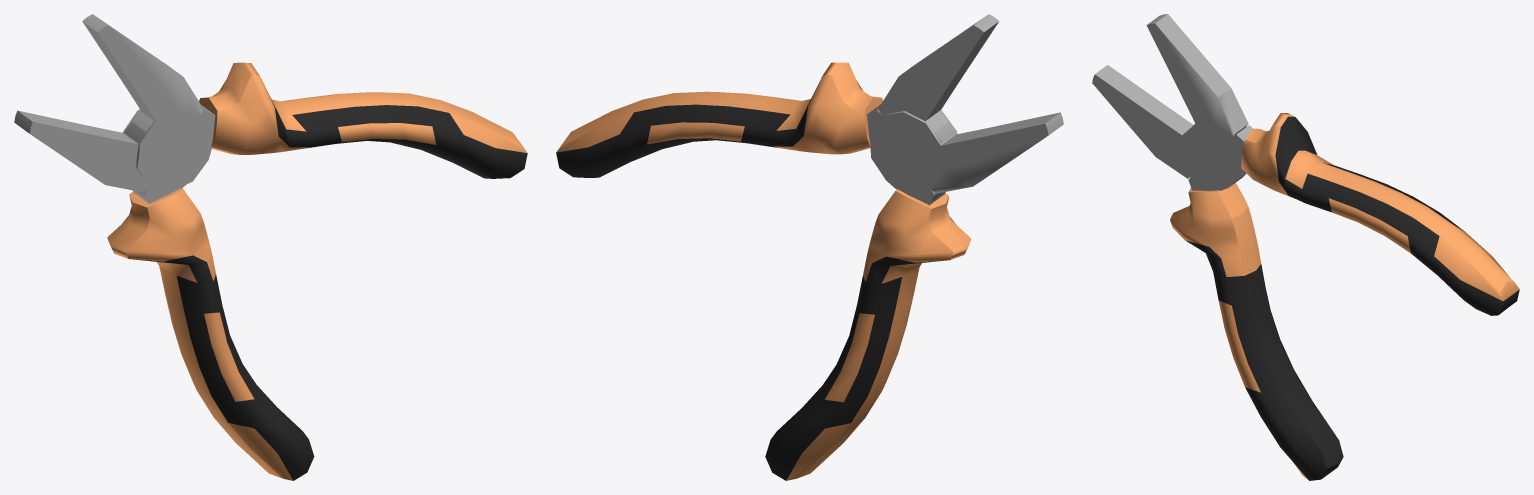
Rendered from Pliers.fbx.
The picture shows the model from 3 angles, left to right: view 1: azimuth 30°, elevation 25°; view 2: azimuth 150°, elevation 25°; view 3: azimuth 330°, elevation 25°; orthographic projection. The views are drawn at different scales.
Parts seen in each view (by area): view 1: Pliers; view 2: Pliers; view 3: Pliers.
Boxes of the visible parts, x1,y1,x2,y2 form: Pliers: (14,14,527,480); Pliers: (556,14,1063,480); Pliers: (1092,14,1519,480).
Size of the model in its own units: 3.99 by 3.86 by 0.5632.
